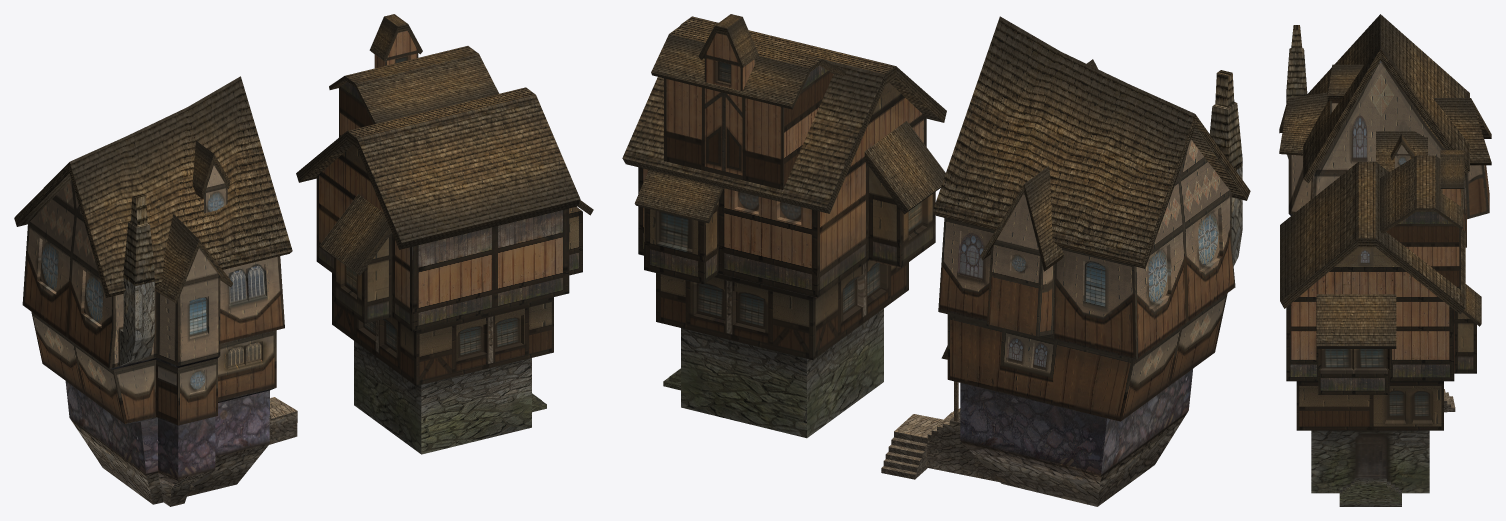
The picture shows the model from 3 angles, left to right: view 1: azimuth 30°, elevation 25°; view 2: azimuth 150°, elevation 25°; view 3: azimuth 270°, elevation 25°; orthographic projection. The views are drawn at different scales.
Parts seen in each view (by area): view 1: obj_house_001_01, obj_house_002_01; view 2: obj_house_002_01, obj_house_001_01; view 3: obj_house_001_01, obj_house_002_01.
Boxes of the visible parts, bbox=[...] form: obj_house_001_01: bbox=[296, 14, 593, 454]; obj_house_002_01: bbox=[14, 76, 297, 506]; obj_house_002_01: bbox=[881, 16, 1250, 506]; obj_house_001_01: bbox=[622, 14, 946, 438]; obj_house_001_01: bbox=[1280, 150, 1481, 506]; obj_house_002_01: bbox=[1279, 14, 1491, 412].
Bounding box in the file's own units: 14.87 × 11.1 × 6.33.
